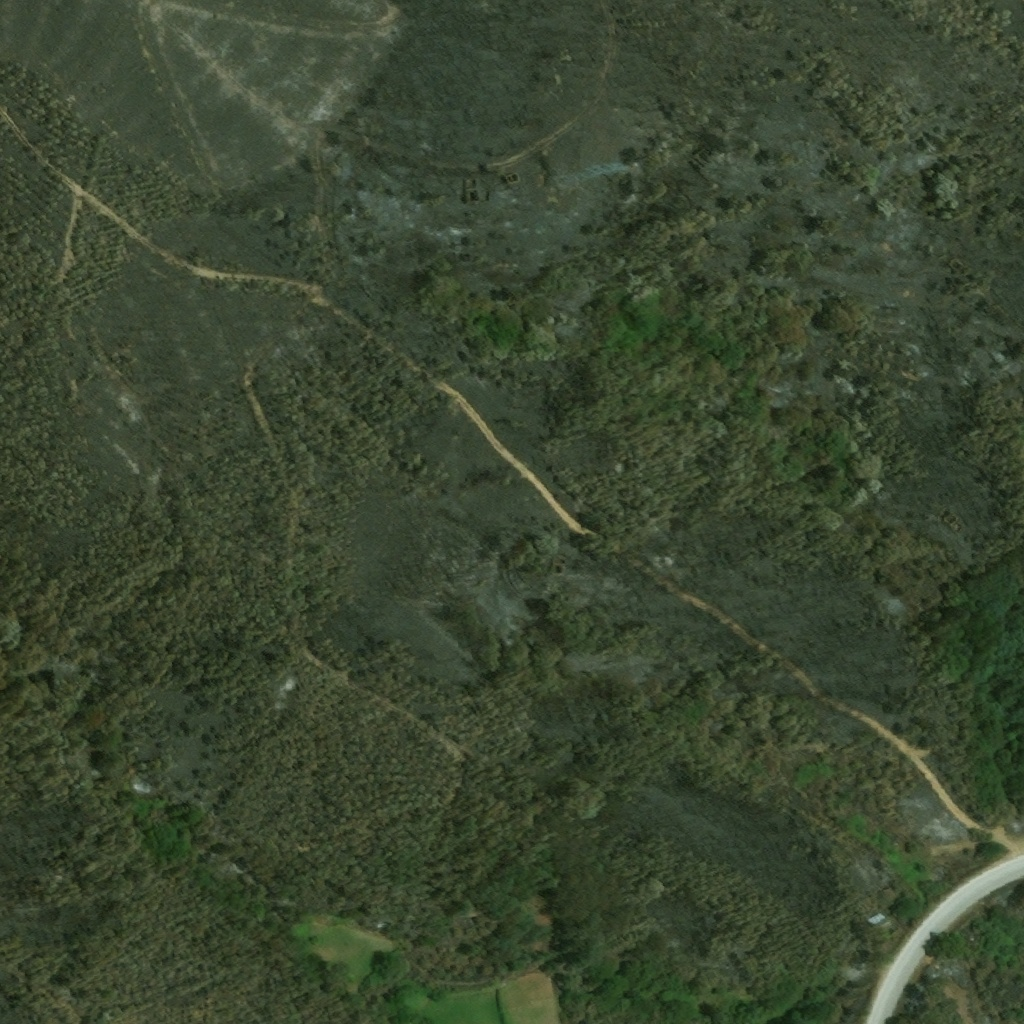0 no-damage: (865, 912, 891, 932)
4 un-classified: (494, 968, 556, 1023)
